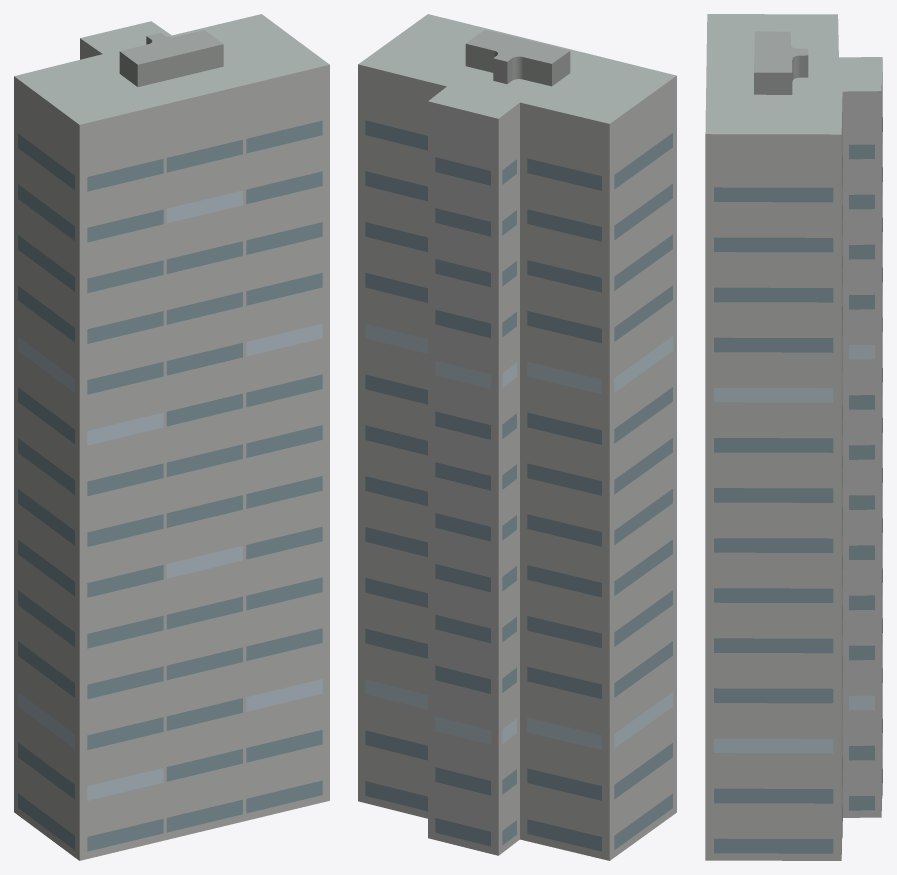
File: fallback-gangdong-lotte-castle-first-115.glb
The picture shows the model from 3 angles, left to right: view 1: azimuth 30°, elevation 25°; view 2: azimuth 150°, elevation 25°; view 3: azimuth 270°, elevation 25°; orthographic projection.
Parts seen in each view (by area): view 1: fallback-gangdong-lotte-castle-first-115; view 2: fallback-gangdong-lotte-castle-first-115; view 3: fallback-gangdong-lotte-castle-first-115.
Part boxes in pixels (box(x1,y1,x2,y2)): fallback-gangdong-lotte-castle-first-115: box(14, 14, 329, 860); fallback-gangdong-lotte-castle-first-115: box(358, 14, 676, 860); fallback-gangdong-lotte-castle-first-115: box(705, 14, 882, 860).
Bounding box in the file's own units: 28.04 × 81 × 17.44.
